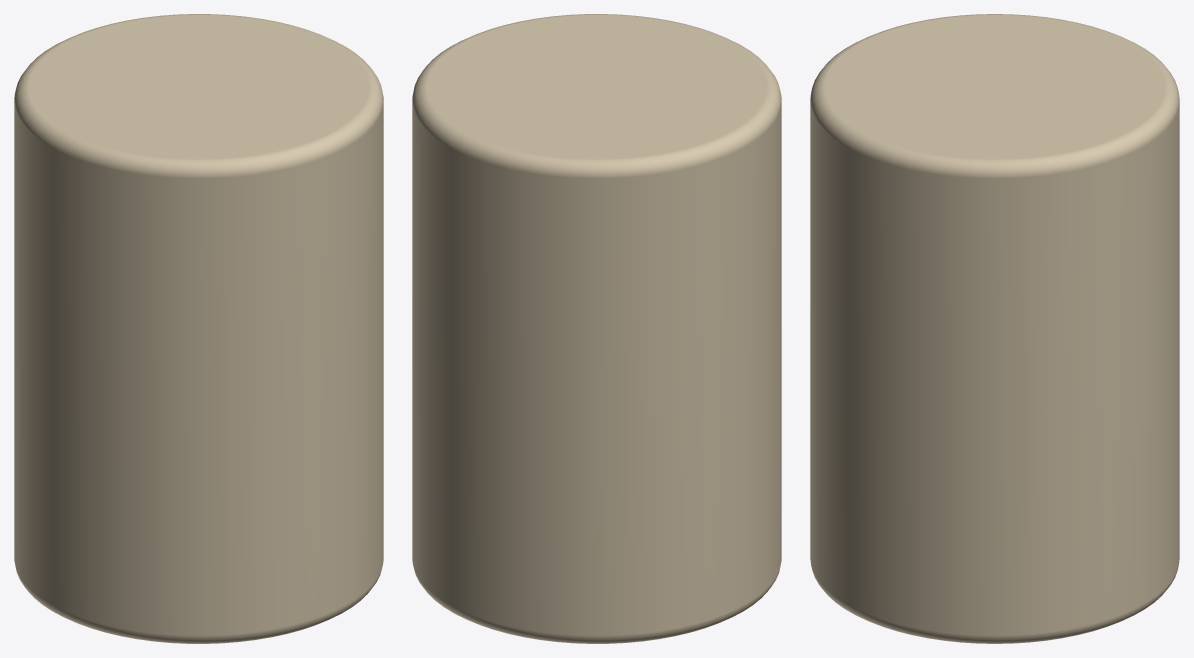
The model's file is hero-stepping-2.glb.
The picture shows the model from 3 angles, left to right: view 1: azimuth 30°, elevation 25°; view 2: azimuth 150°, elevation 25°; view 3: azimuth 270°, elevation 25°; orthographic projection.
Visible parts, largest first — view 1: Honed stone stepping disc.002; view 2: Honed stone stepping disc.002; view 3: Honed stone stepping disc.002.
Boxes of the visible parts, x1,y1,x2,y2 form: Honed stone stepping disc.002: (14, 14, 383, 643); Honed stone stepping disc.002: (412, 14, 781, 643); Honed stone stepping disc.002: (810, 14, 1179, 643).
Size of the model in its own units: 0.0753 by 0.1087 by 0.0753.
